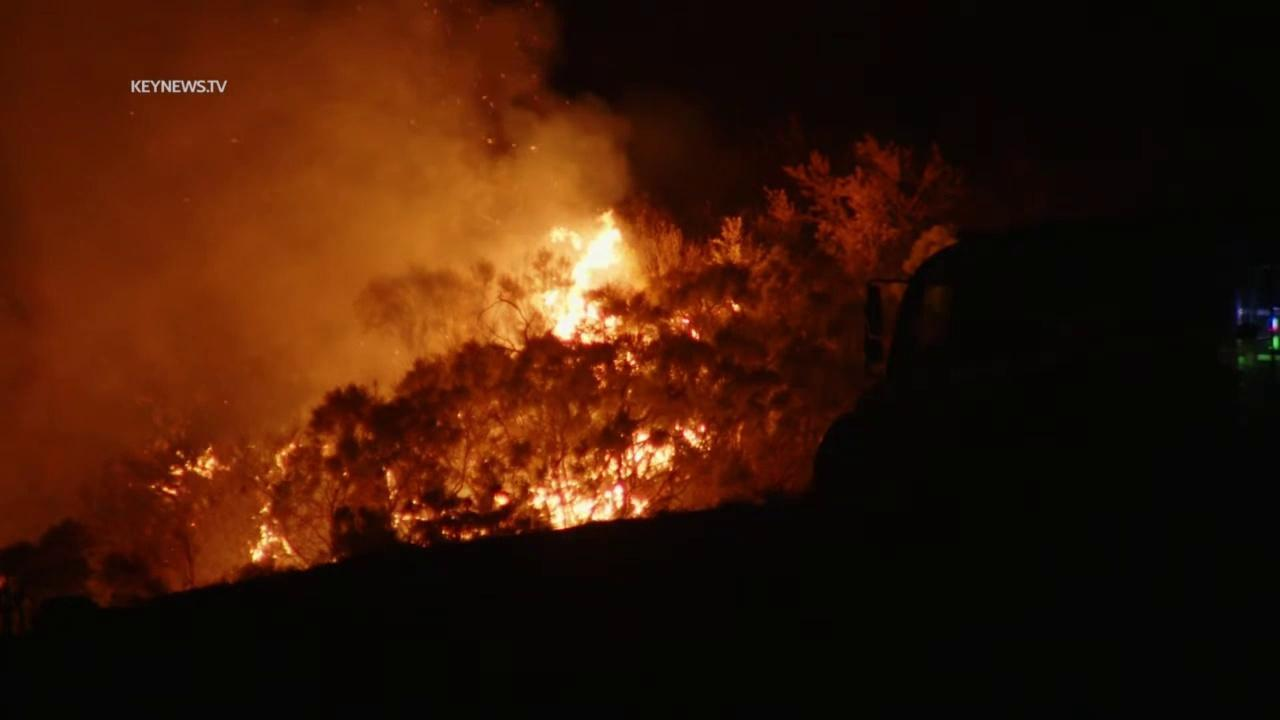fire: (490, 204, 720, 536), (248, 435, 312, 576), (146, 439, 226, 500), (380, 466, 436, 548), (442, 523, 488, 540), (315, 431, 341, 460), (729, 297, 743, 313)
smoke: (0, 0, 763, 627)
